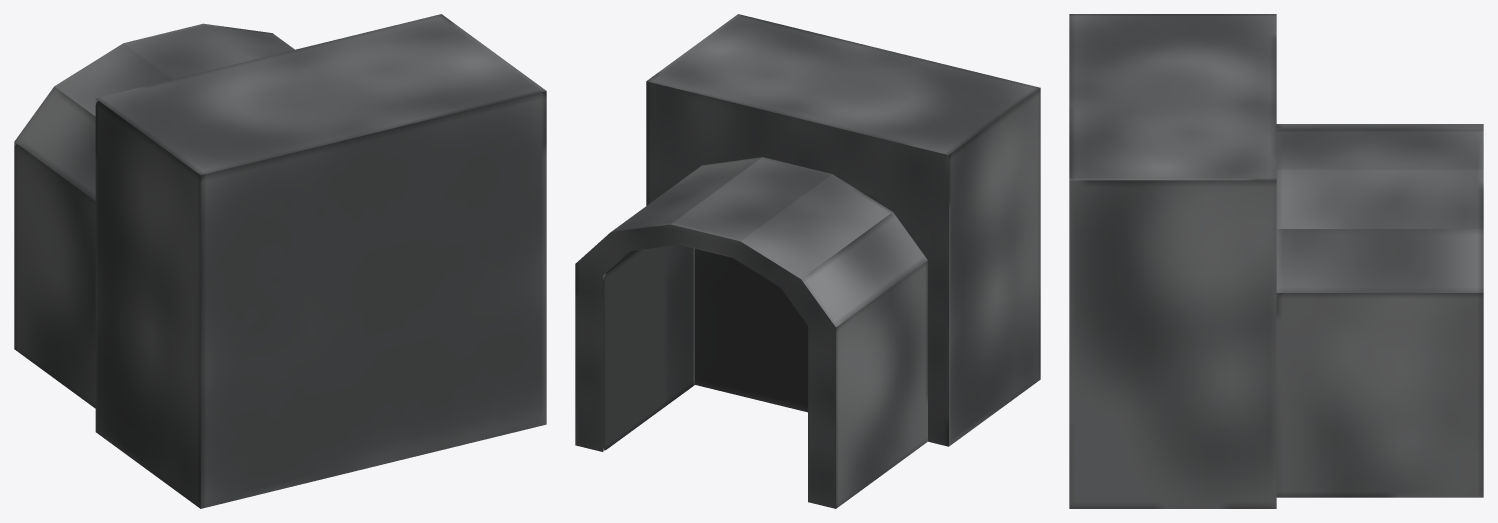
Rendered from acr.fbx.
The picture shows the model from 3 angles, left to right: view 1: azimuth 30°, elevation 25°; view 2: azimuth 150°, elevation 25°; view 3: azimuth 270°, elevation 25°; orthographic projection. The views are drawn at different scales.
Parts seen in each view (by area): view 1: cuboid, tube; view 2: cuboid, tube; view 3: cuboid, tube.
Part boxes in pixels (x1,y1,x2,y2): cuboid: (95,14,546,508); tube: (14,23,294,408); cuboid: (646,14,1040,446); tube: (575,157,927,508); cuboid: (1069,14,1276,508); tube: (1276,124,1483,497).
Size of the model in its own units: 190 by 175 by 200.
Materials: 1 (1 with a texture image).
